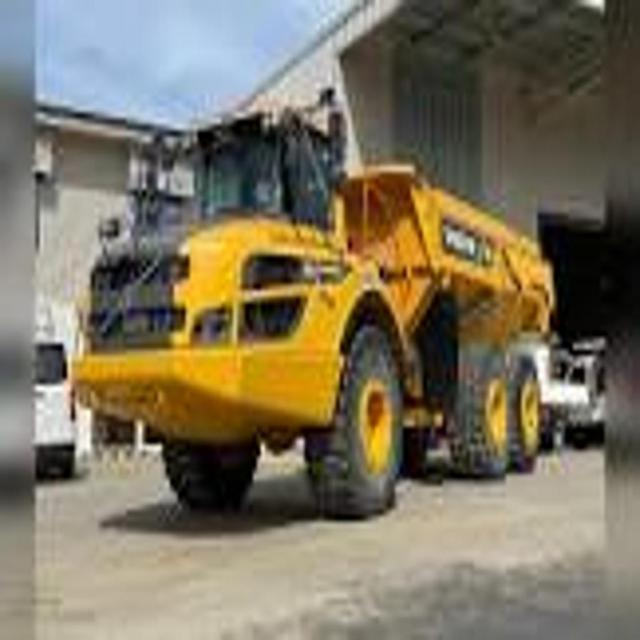dump_truck: (68, 91, 558, 524)
